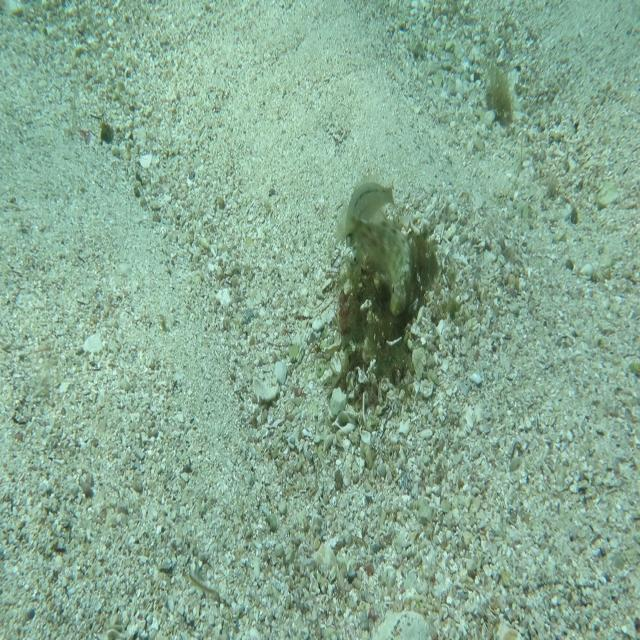SPA: (334, 202, 416, 319)
nest: (331, 200, 450, 418), (344, 178, 400, 252)
